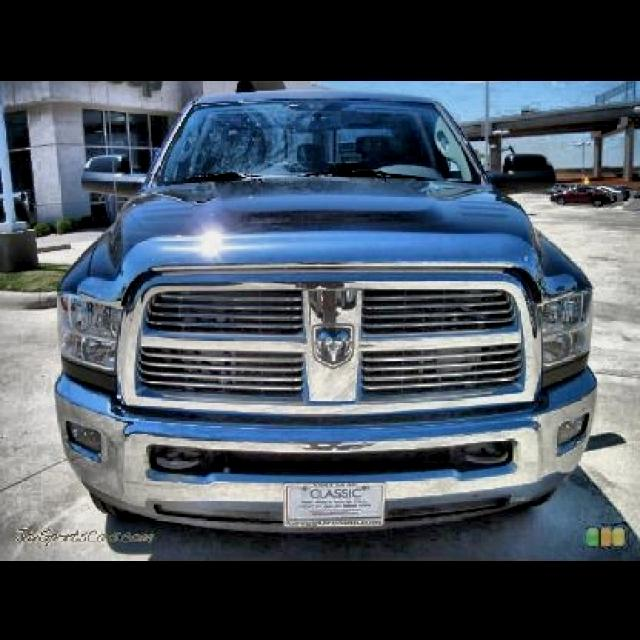black: (62, 64, 639, 460)
